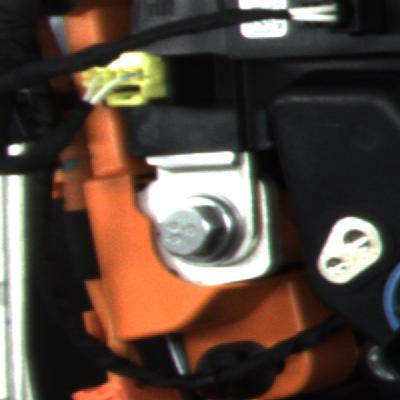nut_b: (150, 187, 257, 277)
